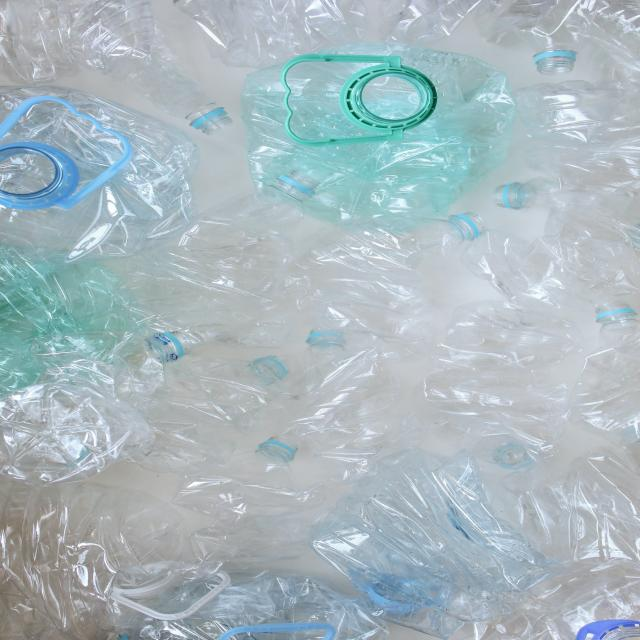plastic: (249, 77, 519, 384)
